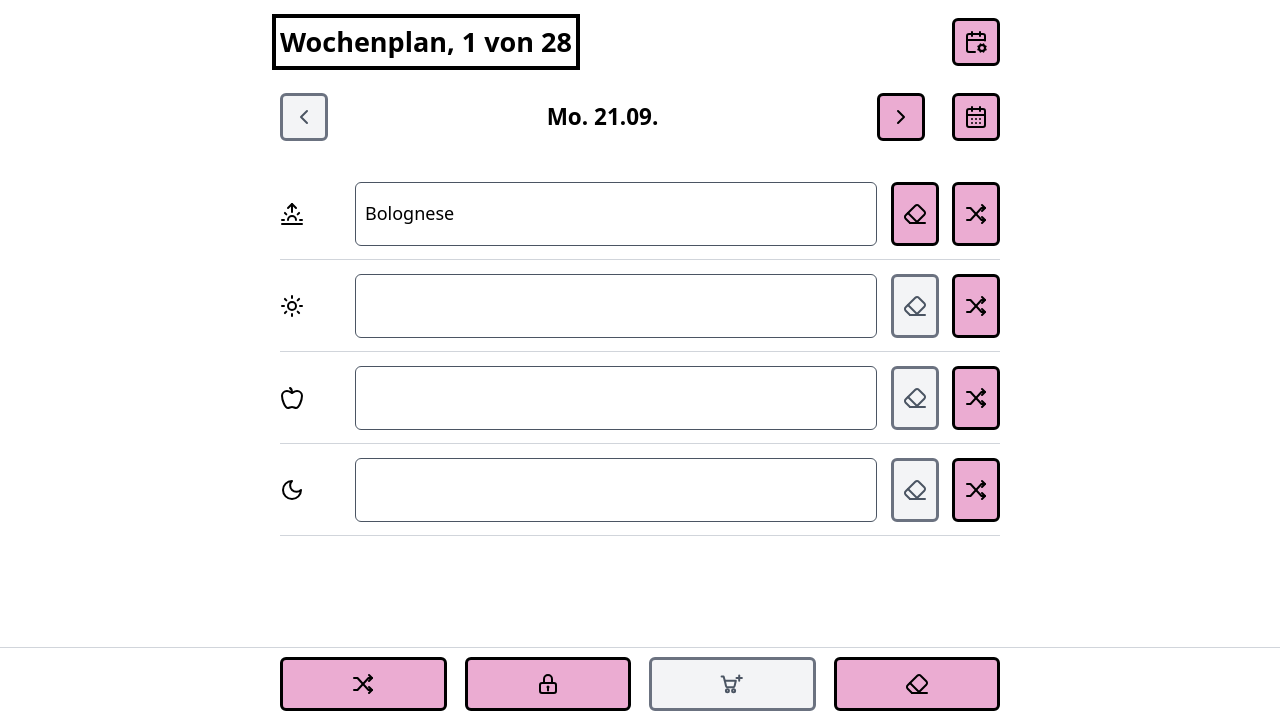
Test: WeekPlanArea › rolls the whole week over a meal time that was chosen by hand
Click the button named "Zufallsauswahl generieren" at (363, 684), box x1=280 y1=657 x2=446 y2=711
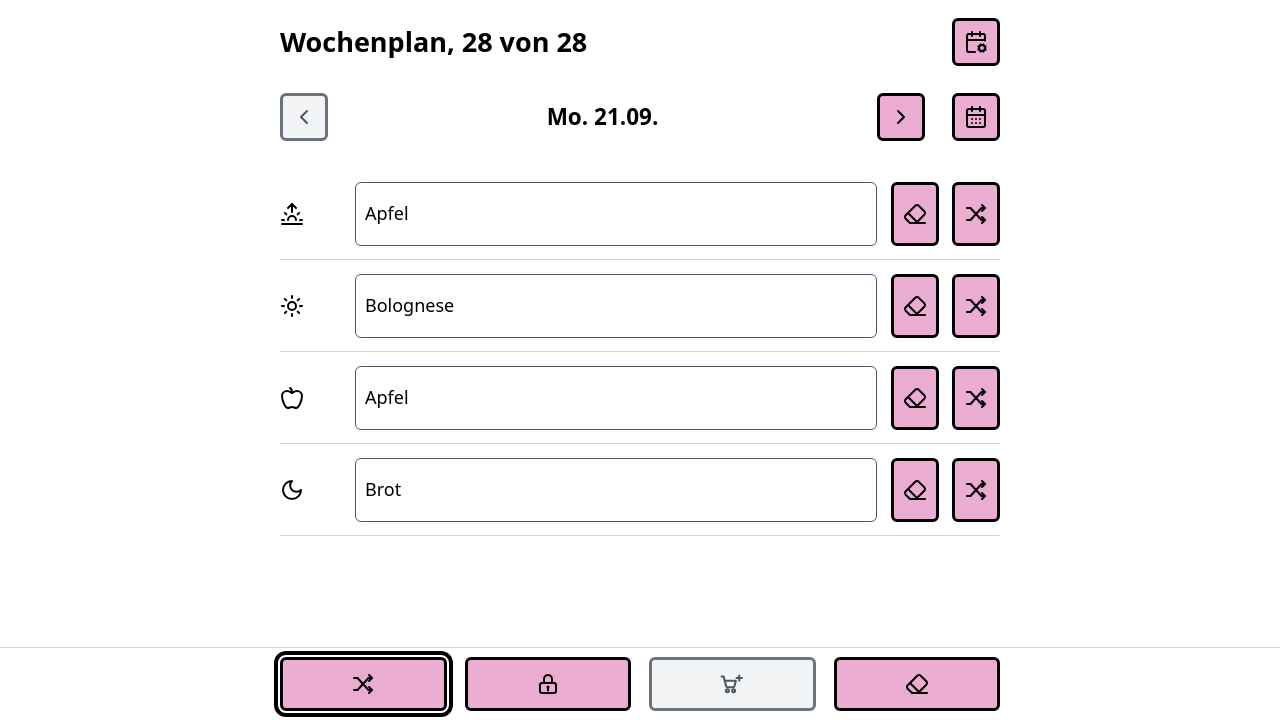
Expected: the heading "Wochenplan, 28 von 28" is shown, x1=280 y1=22 x2=587 y2=62
